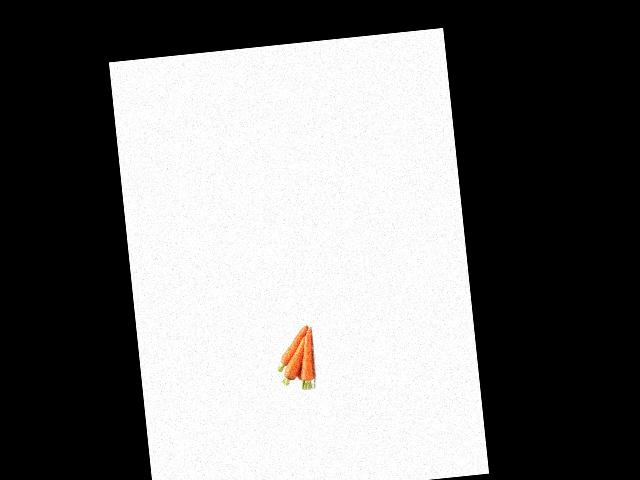carrot: (296, 324, 322, 386)
